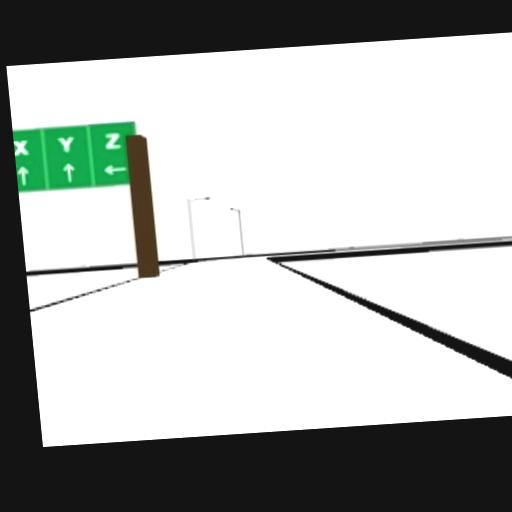Left: (102, 163, 127, 174)
Straight: (16, 164, 30, 184), (61, 161, 75, 180)
X: (13, 139, 29, 154)
Y: (57, 135, 75, 152)
Z: (103, 130, 121, 149)
